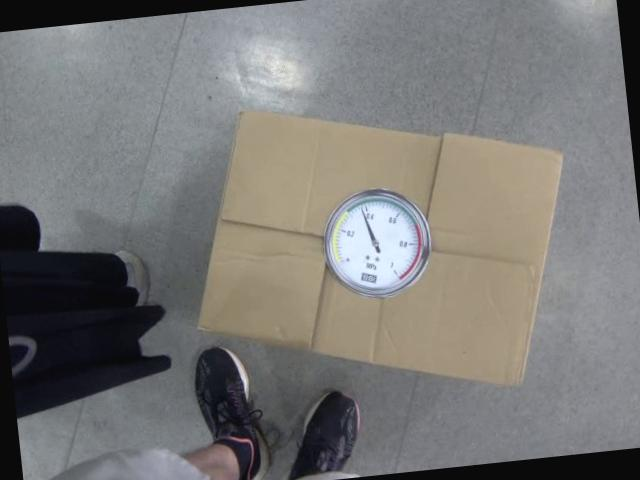Dashboard: (317, 184, 436, 304)
ssi: (356, 270, 379, 286)
